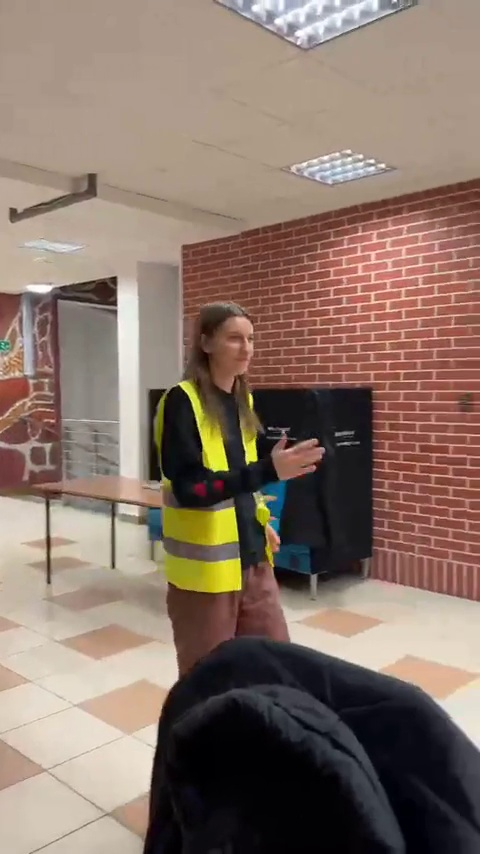vest: (156, 299, 317, 640)
